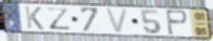5: (139, 9, 163, 36)
7: (80, 6, 101, 33)
K: (23, 5, 46, 31)
P: (165, 9, 190, 37)
V: (104, 7, 131, 35)
Z: (45, 7, 73, 31)
